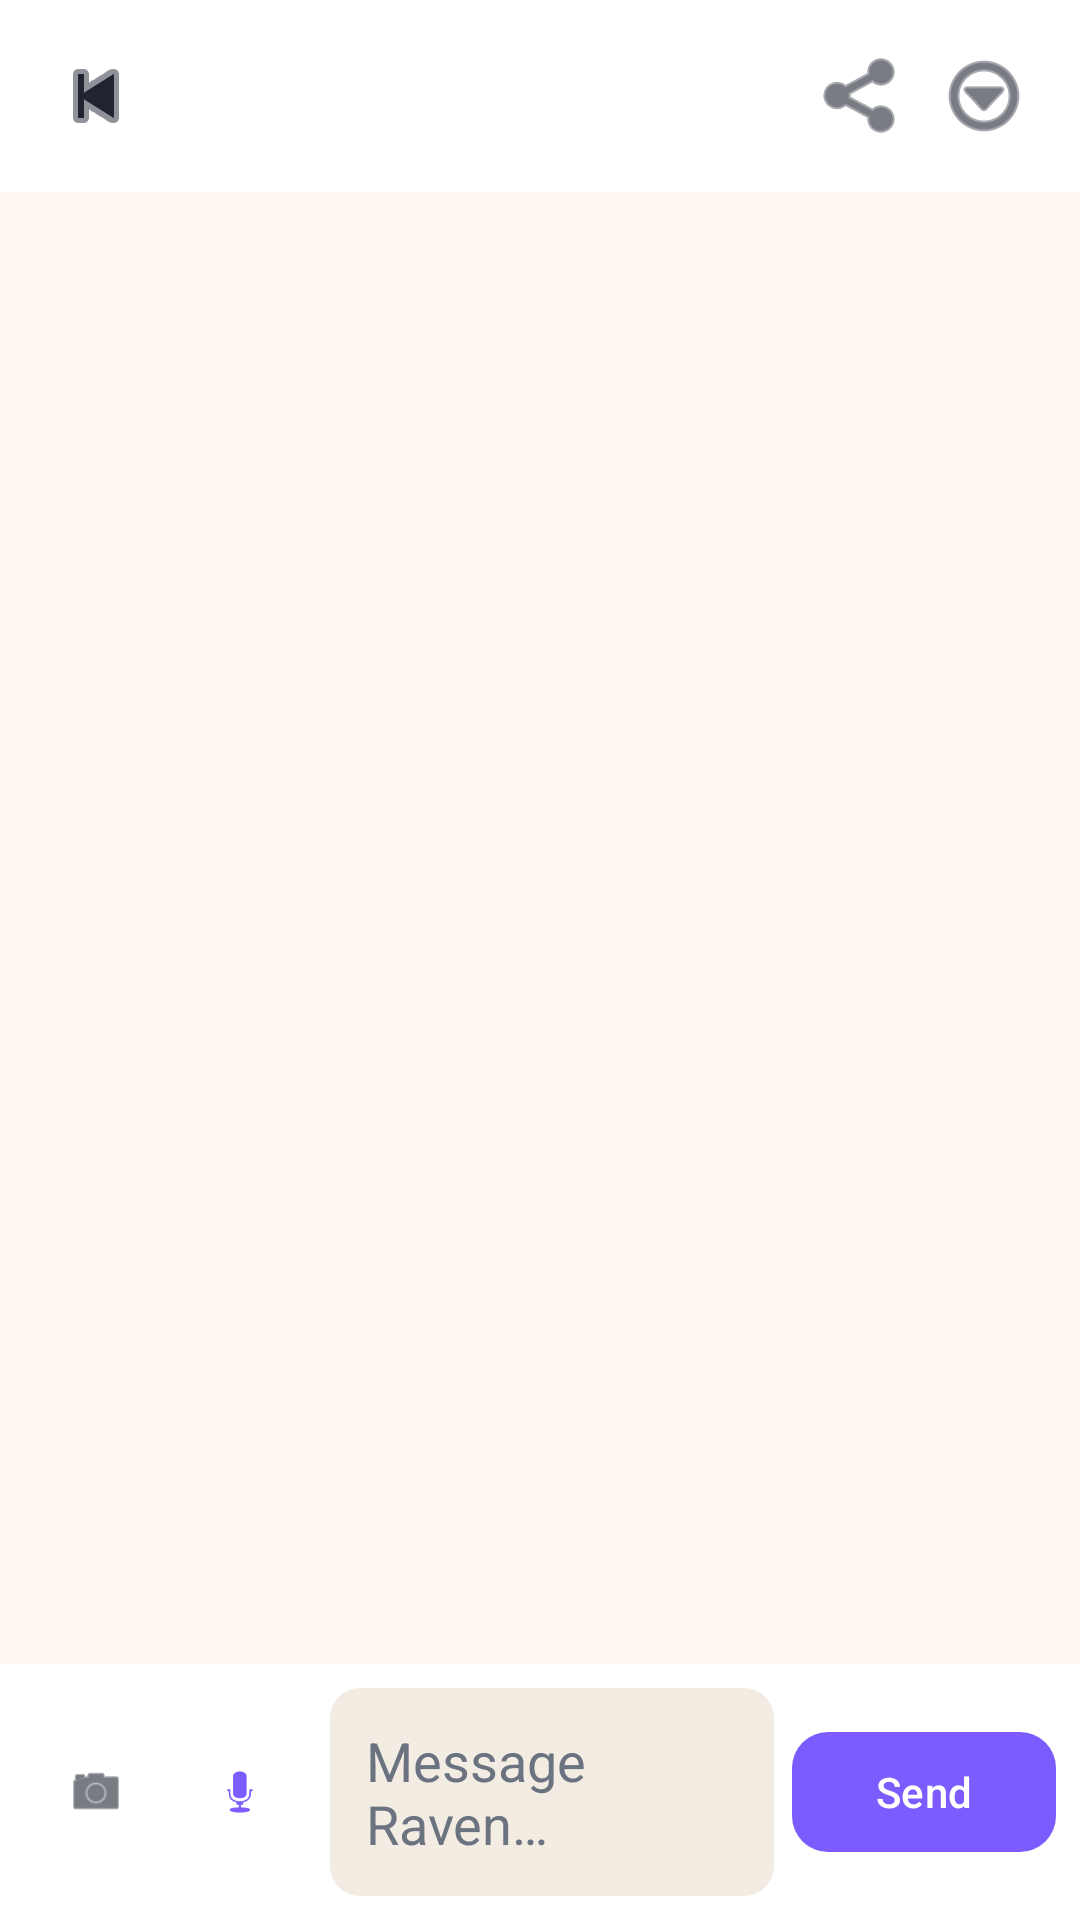

Named icons in this screenshot (1080 × 1920) and their centers, [x,y]:
Share camera: [96,1791]
Share link: [859,95]
Speak to Raven: [240,1792]
